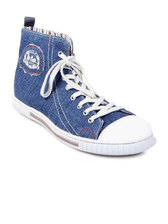shoesd: (16, 17, 161, 157)
